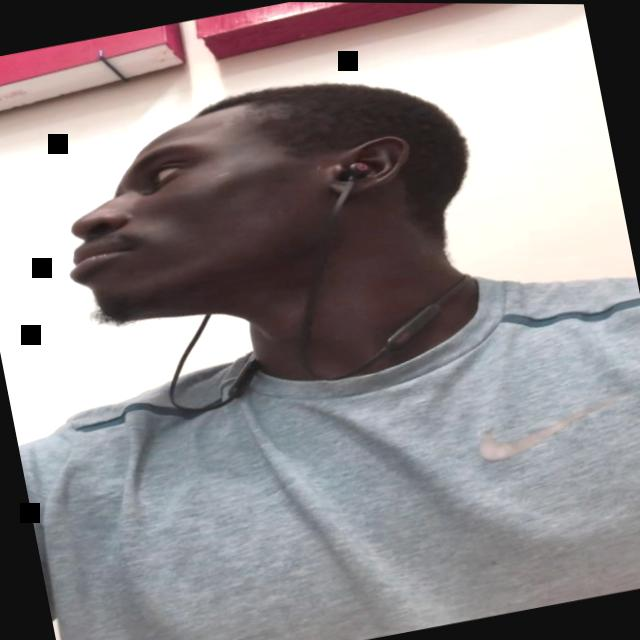NO-Mask: (43, 87, 390, 333)
